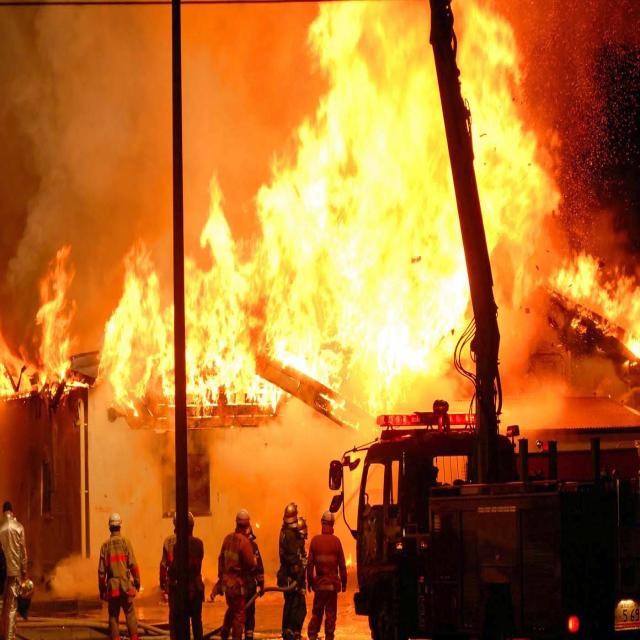Fire: (258, 7, 516, 412), (0, 245, 86, 406), (102, 238, 176, 420), (193, 213, 257, 414), (567, 262, 640, 344)
Smoke: (16, 9, 261, 218)
